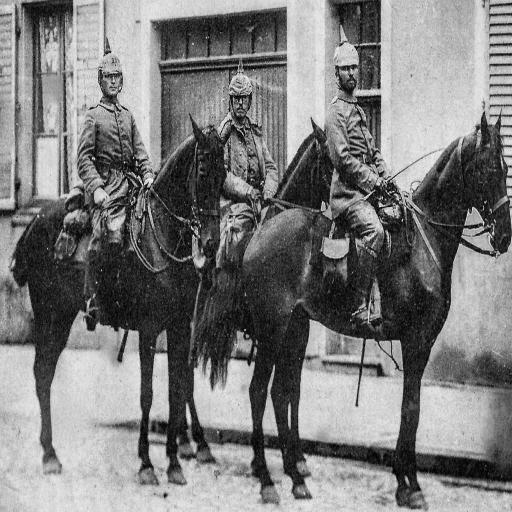Horse: (192, 109, 510, 511), (16, 115, 233, 486), (179, 113, 336, 481)
